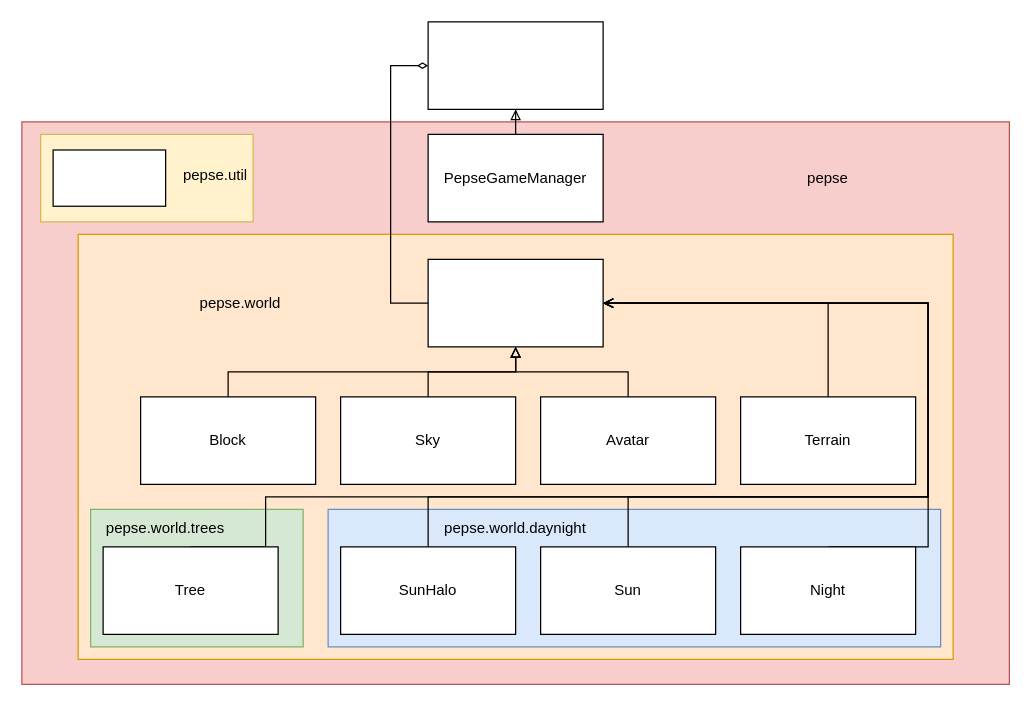
This 1031x706 diagram has some shape labels left out. Each missing label, with the centre of its shape:
ColorSupplier: point 109,177
GameManager: point 515,65
GameObject: point 515,302
